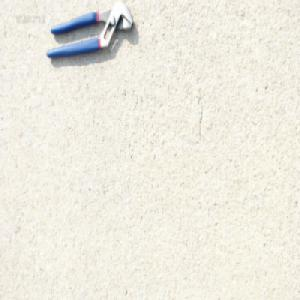Pliers: (45, 1, 134, 60)
